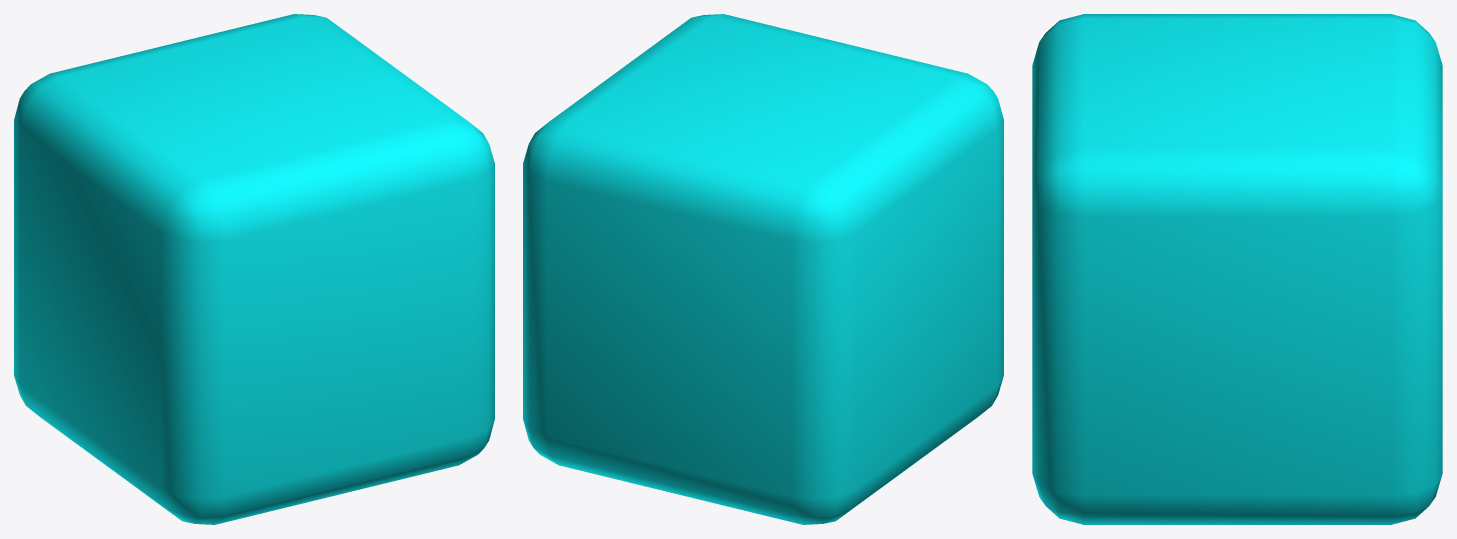
File: IceCube.fbx
3 views of the same model, side by side, from view 1: azimuth 30°, elevation 25°; view 2: azimuth 150°, elevation 25°; view 3: azimuth 270°, elevation 25° (orthographic). The views are drawn at different scales.
Parts seen in each view (by area): view 1: IceCube; view 2: IceCube; view 3: IceCube.
Boxes of the visible parts, x1=… form: IceCube: x1=14, y1=14, x2=494, y2=524; IceCube: x1=523, y1=14, x2=1003, y2=524; IceCube: x1=1032, y1=14, x2=1442, y2=524.
Size of the model in its own units: 0.6033 by 0.6033 by 0.6033.
